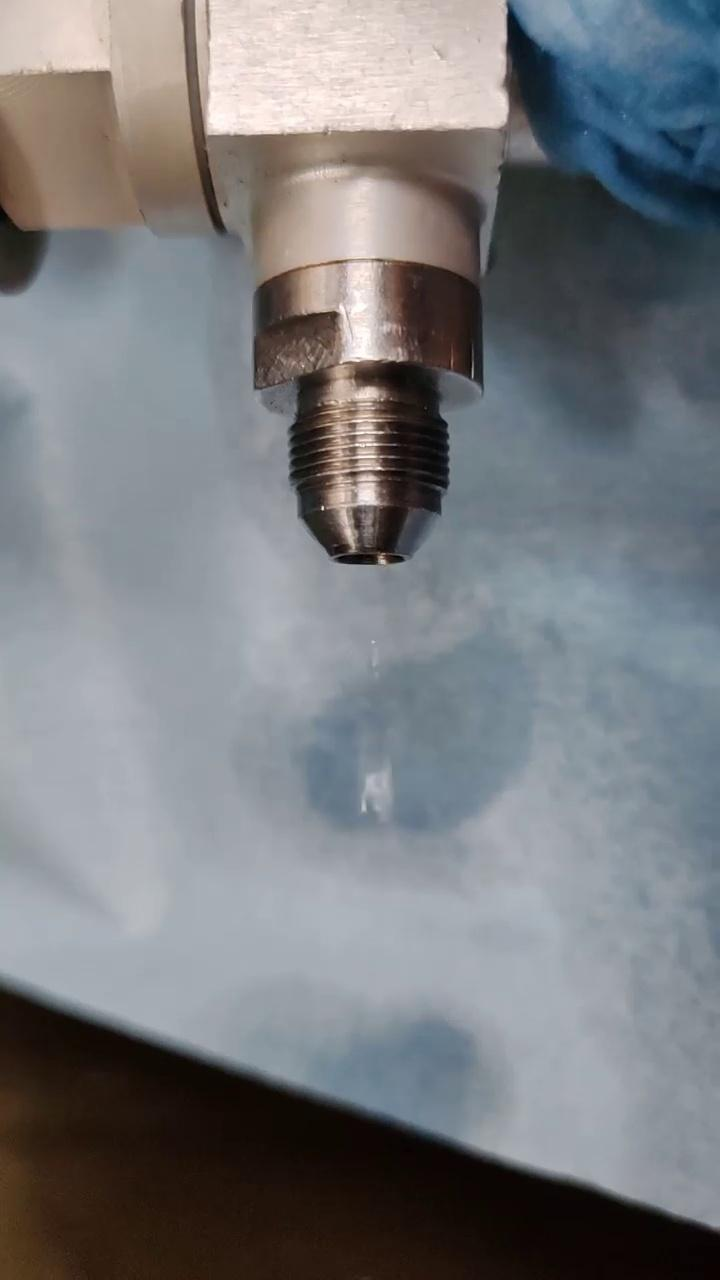water drop: (357, 754, 396, 825)
